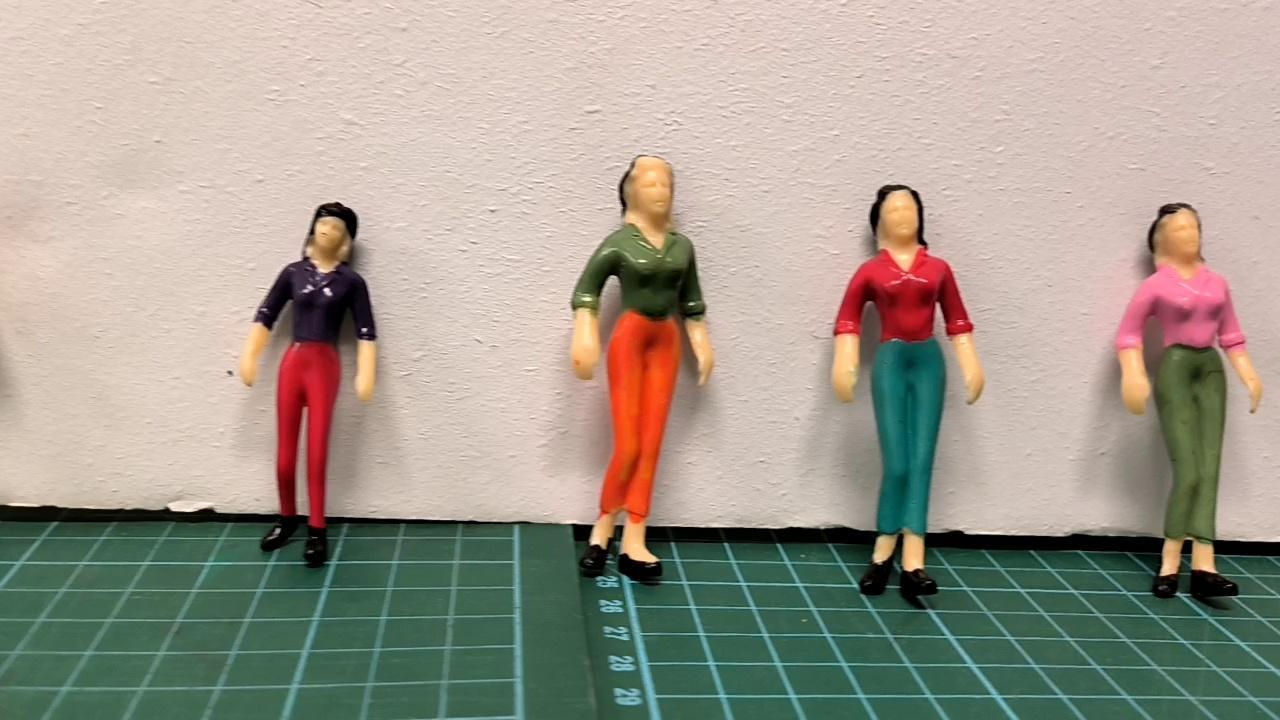human: (826, 178, 989, 602), (566, 152, 719, 592), (1112, 199, 1269, 601), (233, 199, 383, 575)
